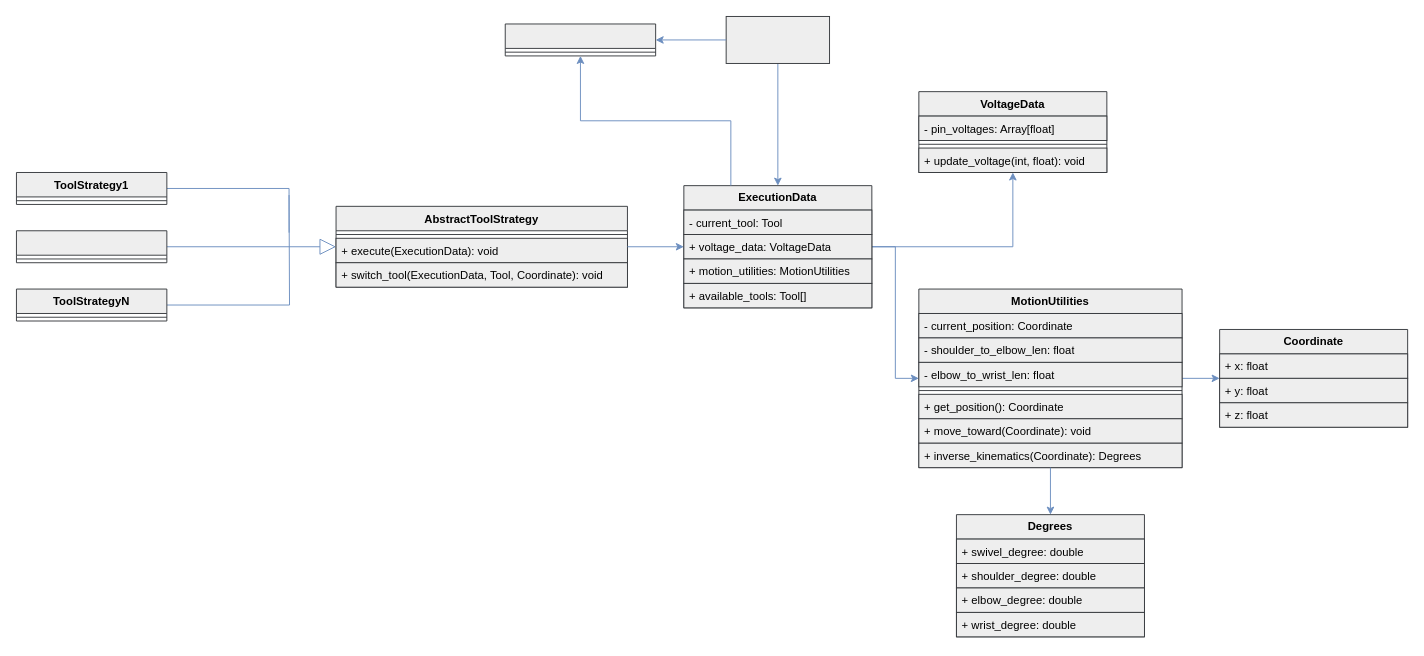
This 1424x656 diagram has some shape labels left out. The centre of each missing label's shape, as x and y in pixels:
"Client Code" goes at (x=777, y=39).
"Tool" goes at (x=580, y=39).
"ToolStrategy2" goes at (x=91, y=246).
